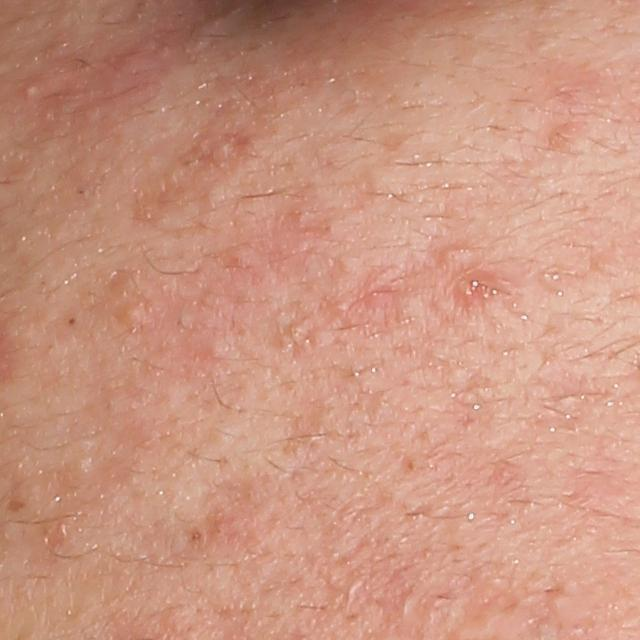comedo: (113, 302, 145, 330), (19, 76, 46, 103), (204, 336, 228, 362), (72, 452, 97, 476), (62, 312, 81, 329), (188, 527, 205, 544)
